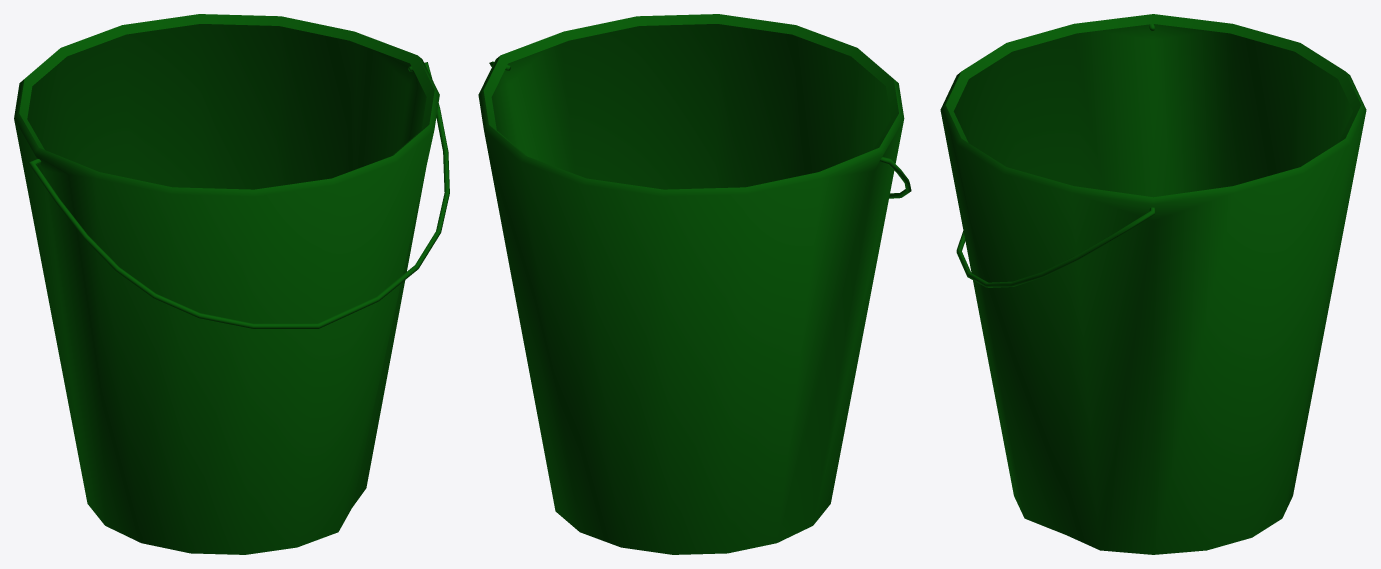
File: jug07.FBX
The picture shows the model from 3 angles, left to right: view 1: azimuth 30°, elevation 25°; view 2: azimuth 150°, elevation 25°; view 3: azimuth 270°, elevation 25°; orthographic projection.
Visible parts, largest first — view 1: SM_jug07_0; view 2: SM_jug07_0; view 3: SM_jug07_0.
Boxes of the visible parts, box(x1,y1,x2,y2) form: SM_jug07_0: box(14, 14, 449, 554); SM_jug07_0: box(478, 14, 911, 554); SM_jug07_0: box(940, 14, 1366, 554).
Size of the model in its own units: 32.34 by 30 by 30.38.
